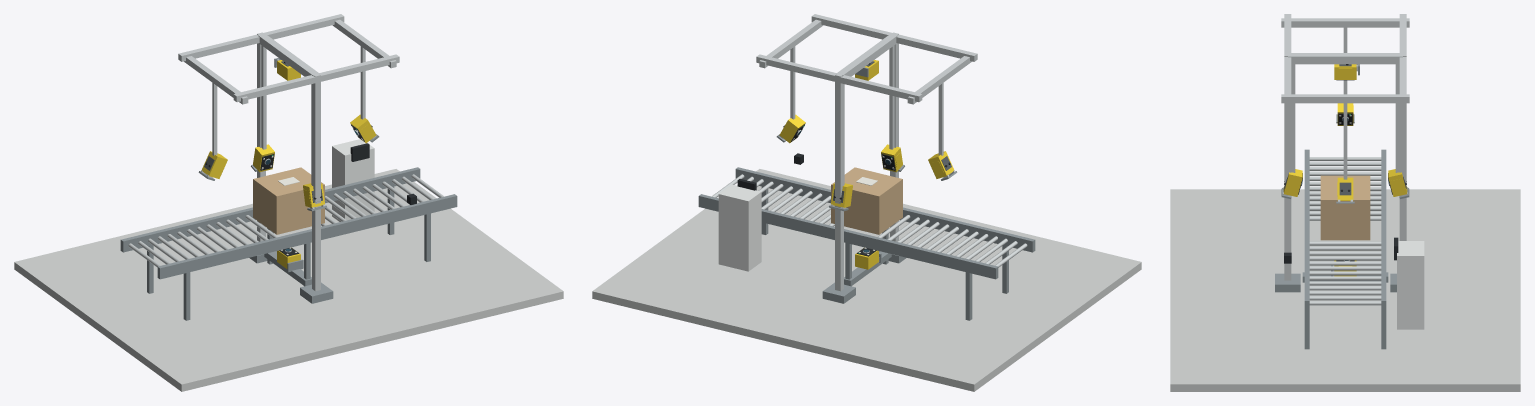
3 renders of one model, left to right at view 1: azimuth 30°, elevation 25°; view 2: azimuth 150°, elevation 25°; view 3: azimuth 270°, elevation 25°, orthographic. The views are drawn at different scales.
Visible parts, largest first — view 1: Floor, Conveyor side rail, Parcel, Conveyor side rail.001, Control cabinet, Extrusion upright, Longitudinal top frame, Longitudinal top frame.001, Overhead crossbeam, End-face sensor bracket, End-face sensor bracket.001, Extrusion upright.001 (+1 smaller); view 2: Floor, Conveyor side rail.001, Control cabinet, Parcel, Conveyor side rail, Extrusion upright.001, Longitudinal top frame.001, Longitudinal top frame, Overhead crossbeam, End-face sensor bracket, End-face sensor bracket.001, Extrusion upright (+1 smaller); view 3: Floor, Parcel, Control cabinet, Overhead crossbeam, Extrusion upright, End-face sensor bracket, End-face sensor bracket.001, Conveyor side rail, Conveyor side rail.001, Extrusion upright.001, Longitudinal top frame, Longitudinal top frame.001 (+21 smaller).
Boxes of the visible parts, box(x1,y1,x2,y2) form: Floor: box(14, 169, 563, 391); Conveyor side rail: box(157, 194, 457, 279); Parcel: box(253, 167, 324, 234); Conveyor side rail.001: box(120, 167, 420, 252); Control cabinet: box(332, 139, 374, 221); Extrusion upright: box(312, 74, 320, 291); Longitudinal top frame: box(233, 54, 399, 102); Longitudinal top frame.001: box(178, 14, 344, 61); Overhead crossbeam: box(258, 33, 319, 76); End-face sensor bracket: box(184, 56, 248, 104); End-face sensor bracket.001: box(332, 19, 396, 68); Extrusion upright.001: box(257, 32, 265, 241); Floor: box(592, 169, 1141, 391); Conveyor side rail.001: box(698, 194, 998, 279); Control cabinet: box(718, 184, 761, 271); Parcel: box(831, 167, 902, 234); Conveyor side rail: box(735, 167, 1035, 252); Extrusion upright.001: box(835, 74, 843, 291); Longitudinal top frame.001: box(756, 54, 922, 102); Longitudinal top frame: box(811, 14, 977, 61); Overhead crossbeam: box(836, 33, 897, 76); End-face sensor bracket: box(907, 56, 971, 104); End-face sensor bracket.001: box(759, 19, 823, 68); Extrusion upright: box(890, 32, 898, 241); Floor: box(1170, 189, 1520, 391); Parcel: box(1320, 175, 1370, 240); Control cabinet: box(1397, 241, 1424, 329); Overhead crossbeam: box(1288, 53, 1402, 64); Extrusion upright: box(1284, 53, 1291, 280); End-face sensor bracket: box(1281, 18, 1409, 27); End-face sensor bracket.001: box(1281, 94, 1409, 103); Conveyor side rail: box(1304, 149, 1309, 312); Conveyor side rail.001: box(1381, 149, 1386, 312); Extrusion upright.001: box(1399, 53, 1406, 240); Longitudinal top frame: box(1284, 14, 1291, 103); Longitudinal top frame.001: box(1399, 14, 1406, 103).
Size of the model in its own units: 5.4 by 3.1 by 4.1.
